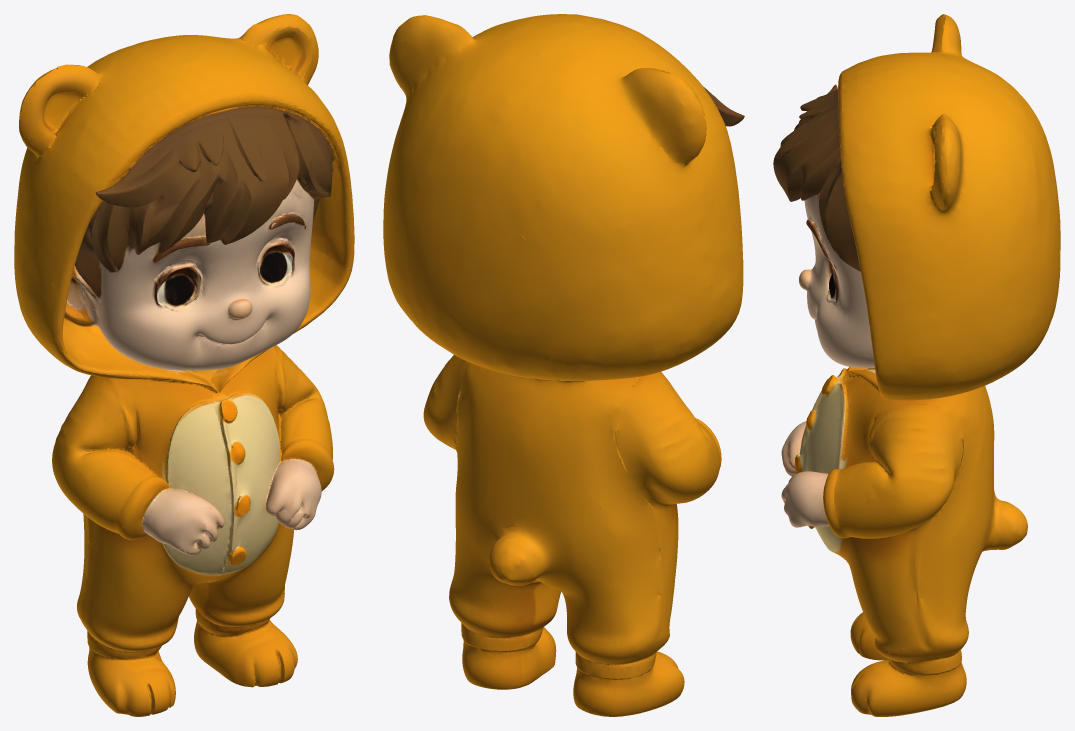
File: base_basic_pbr.glb
3 views of the same model, side by side, from view 1: azimuth 30°, elevation 25°; view 2: azimuth 150°, elevation 25°; view 3: azimuth 270°, elevation 25° (orthographic). The views are drawn at different scales.
Parts seen in each view (by area): view 1: model; view 2: model; view 3: model.
Part boxes in pixels (x1,y1,x2,y2): model: (14, 14, 354, 716); model: (383, 14, 744, 716); model: (773, 14, 1060, 716).
Bounding box in the file's own units: 0.3582 × 0.7 × 0.2987.
Materials: 1 (1 with a texture image).
